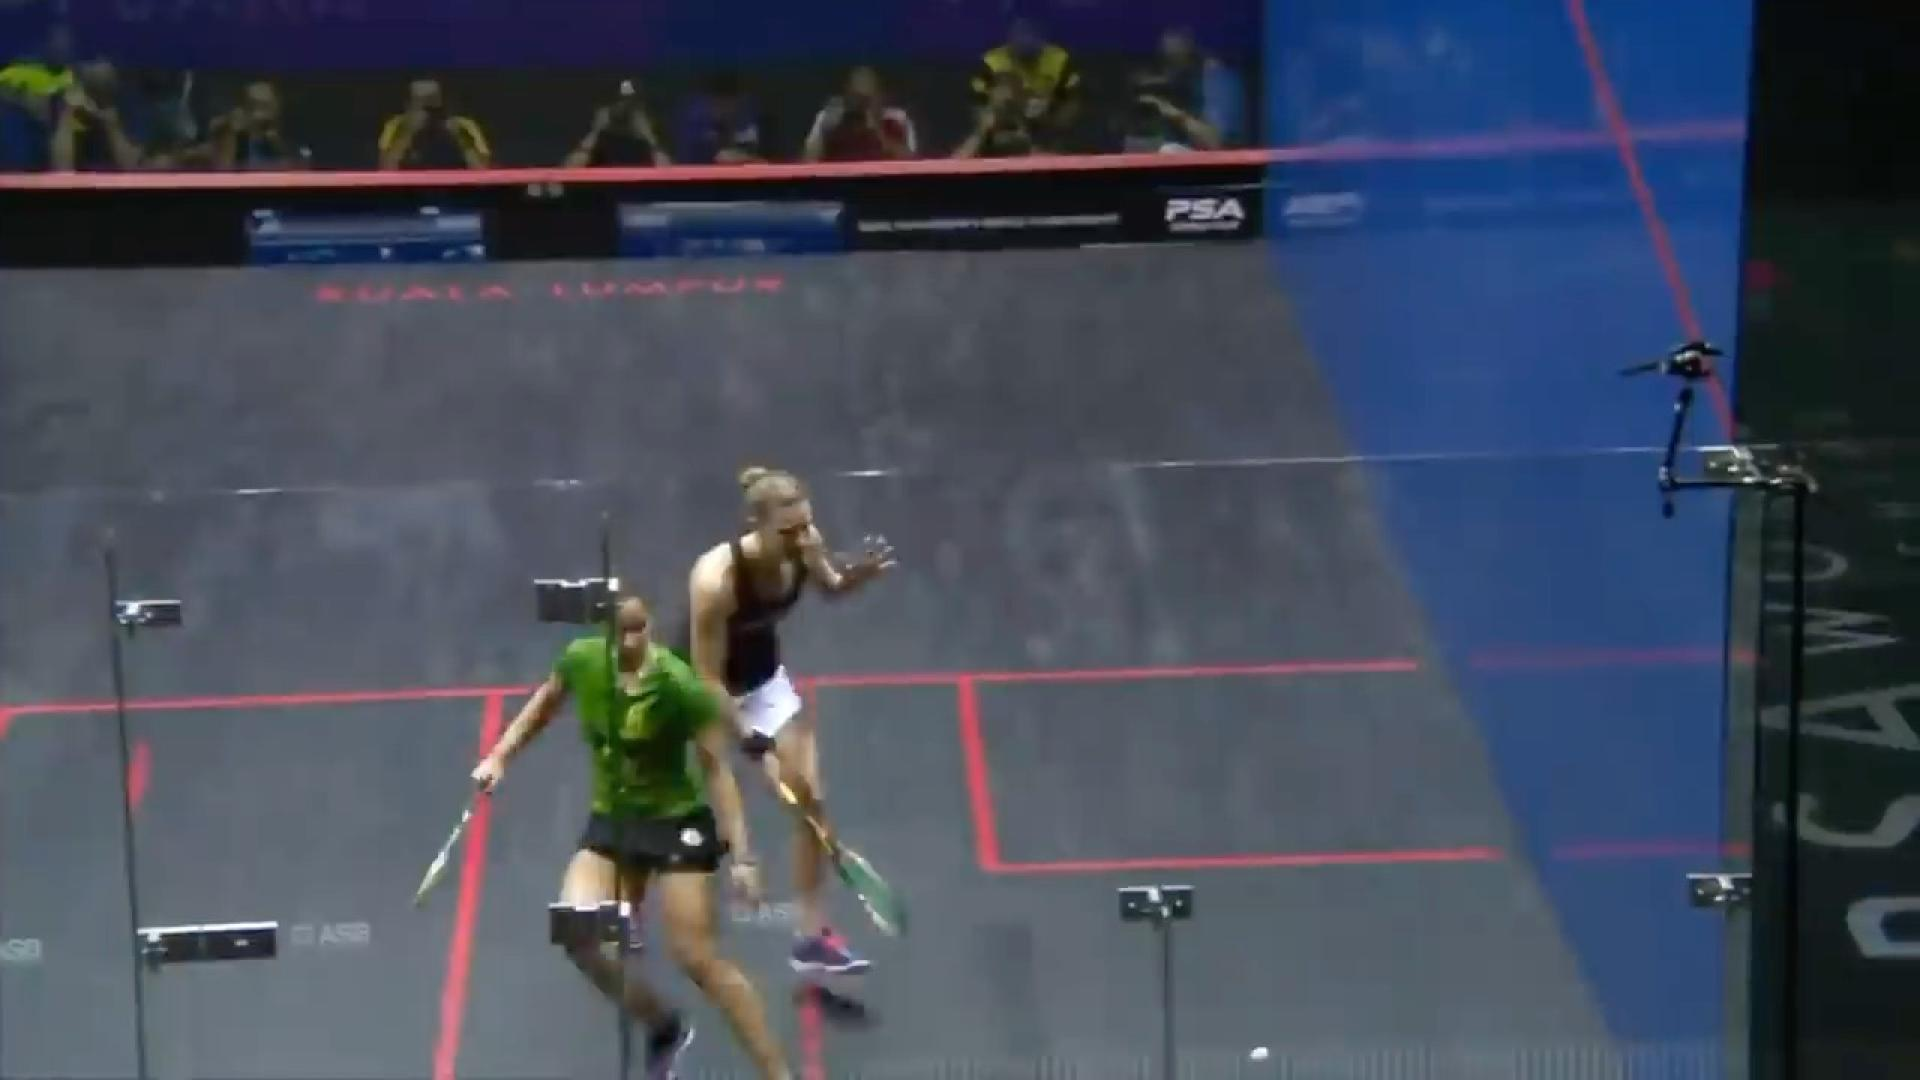Squash-Ball: (1233, 1035, 1286, 1073)
